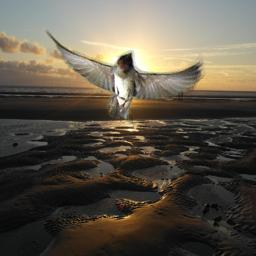Swallow: (42, 27, 206, 125)
